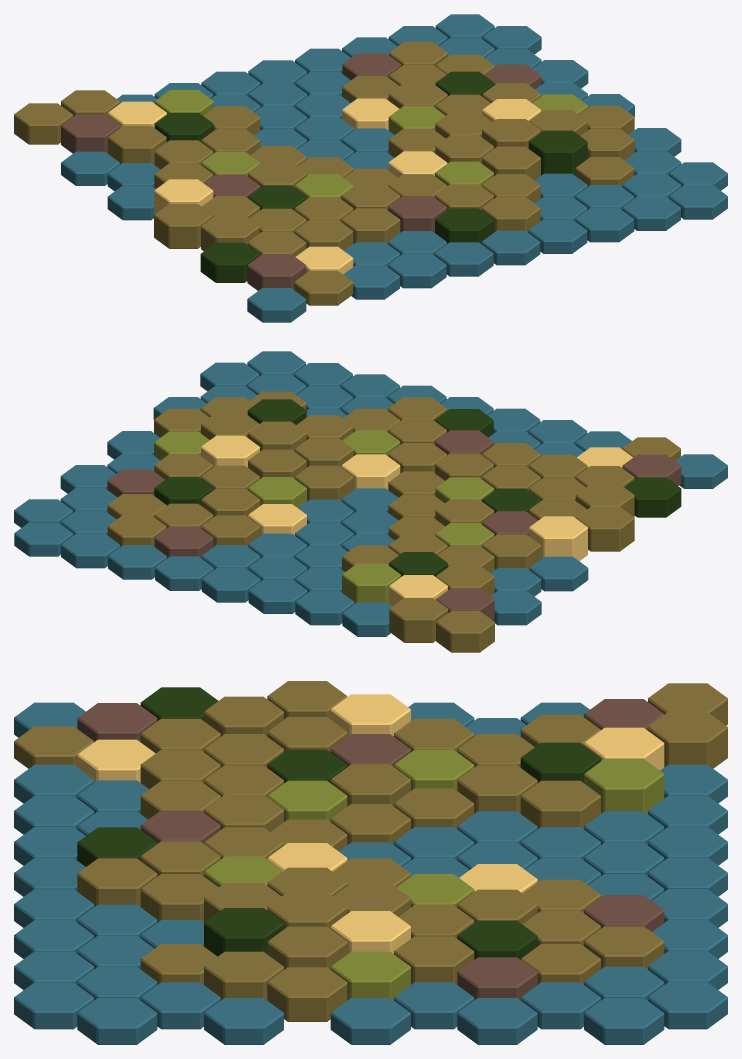
File: map-test-v4.gltf
3 views of the same model, one above another, from view 1: azimuth 30°, elevation 25°; view 2: azimuth 150°, elevation 25°; view 3: azimuth 270°, elevation 25° (orthographic). The views are drawn at different scales.
Visible parts, largest first — view 1: row_1, row_3, row_4, row_2, row_9, row_5, row_8, row_6, row_7, row_11_1, row_10_1, Row_1_10 (+24 smaller); view 2: row_6, row_5, row_7, row_9, row_4, row_8, row_3, row_1, row_2, row_11_1, row_11_2, row_10_3 (+26 smaller); view 3: row_4, row_6, row_3, row_1, row_2, row_5, row_9, row_8, row_7, Row_5_10, row_10_3, row_11_2 (+26 smaller).
Part boxes in pixels (box(x1,y1,x2,y2)): row_1: box(247, 196, 680, 322); row_3: box(200, 157, 634, 282); row_4: box(201, 128, 634, 250); row_2: box(247, 173, 680, 290); row_9: box(61, 54, 494, 185); row_5: box(154, 110, 587, 248); row_8: box(107, 64, 541, 191); row_6: box(154, 94, 587, 214); row_7: box(107, 83, 541, 220); row_11_1: box(14, 103, 72, 144); row_10_1: box(61, 114, 119, 153); Row_1_10: box(669, 185, 727, 219); row_6: box(154, 431, 587, 561); row_5: box(201, 413, 634, 551); row_7: box(154, 454, 588, 591); row_9: box(107, 494, 541, 625); row_4: box(200, 397, 634, 517); row_8: box(107, 469, 541, 596); row_3: box(250, 391, 681, 517); row_1: box(294, 363, 727, 488); row_2: box(247, 374, 681, 485); row_11_1: box(436, 611, 494, 652); row_11_2: box(389, 598, 448, 642); row_10_3: box(342, 563, 400, 604); row_4: box(204, 696, 283, 1000); row_6: box(330, 694, 410, 1000); row_3: box(140, 687, 220, 984); row_1: box(14, 702, 93, 990); row_2: box(77, 703, 157, 1000); row_5: box(267, 681, 347, 969); row_9: box(520, 702, 600, 984); row_8: box(457, 718, 537, 1000); row_7: box(394, 702, 474, 984); Row_5_10: box(267, 967, 347, 1021); row_10_3: box(584, 758, 664, 813); row_11_2: box(648, 712, 727, 768).
Bounding box in the file's own units: 18.84 × 1.26 × 17.47.
